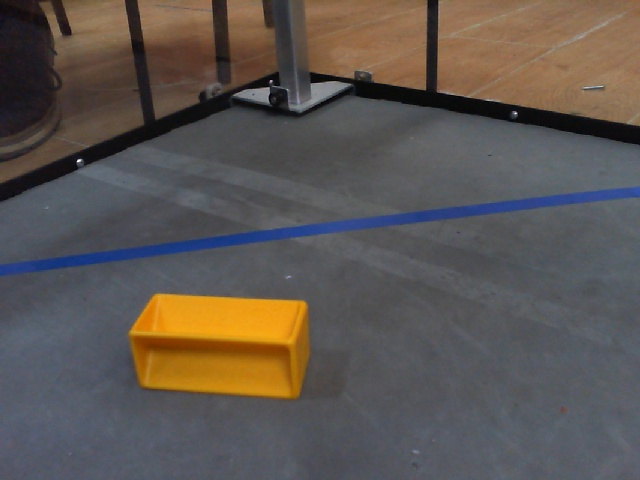YellowSample: (126, 291, 311, 401)
